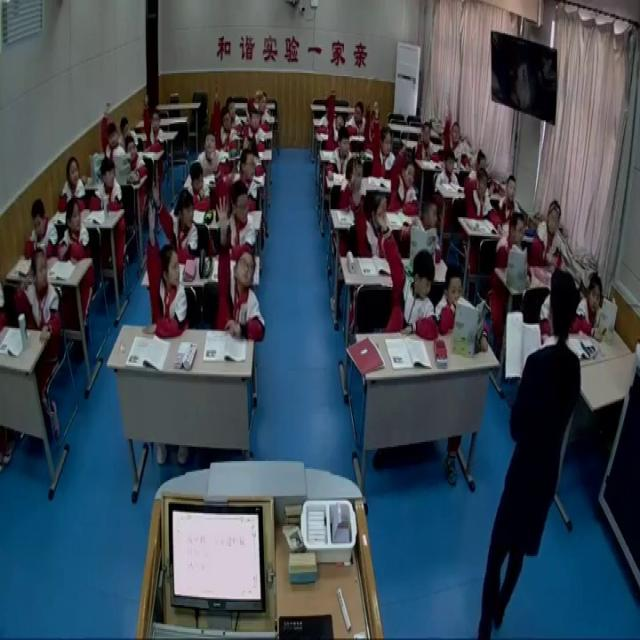distracted: (14, 251, 60, 336), (407, 195, 443, 270), (58, 197, 92, 257), (93, 160, 125, 213), (60, 156, 90, 212), (184, 161, 216, 212), (240, 148, 262, 205), (197, 132, 224, 176), (122, 136, 145, 185), (346, 100, 370, 138)
focused: (437, 266, 487, 344), (529, 190, 570, 271), (496, 208, 534, 278), (576, 272, 612, 345), (23, 198, 61, 264), (461, 161, 499, 221), (496, 172, 526, 230), (339, 156, 369, 210), (435, 142, 464, 196), (326, 129, 356, 179), (414, 119, 440, 160), (244, 110, 266, 150)
raising_hand: (375, 205, 439, 340), (214, 196, 268, 338), (145, 202, 189, 338), (151, 182, 201, 260), (353, 162, 388, 253), (387, 138, 419, 212), (100, 98, 128, 168), (371, 99, 396, 173), (443, 98, 468, 170), (211, 82, 236, 153), (322, 85, 346, 152), (141, 91, 166, 151), (361, 97, 377, 151)
